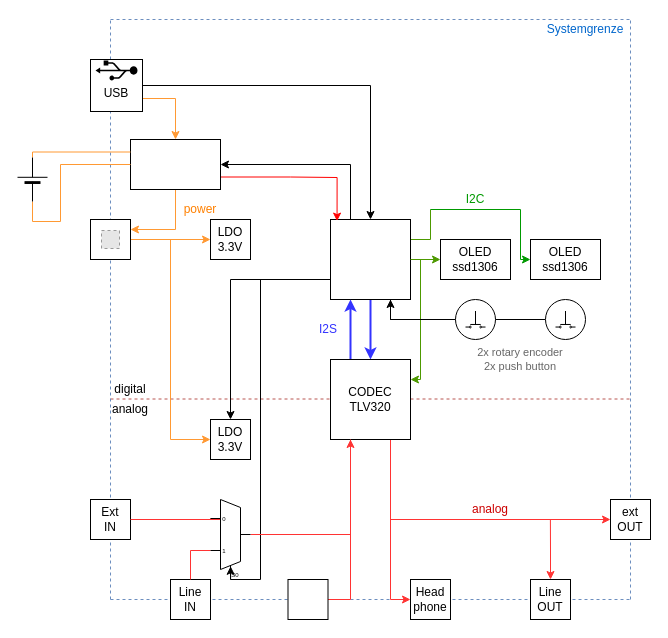
Some shapes in this 668 by 638 pixel diagram are drawn without their labels. Grey dashed boxes stand in for pictures. Here are the shapes that lost their labels. From the top down, the centre of each, then its label:
At point 175,164: "charging IC BQ2409x".
At point 370,259: "DSP STM32".
At point 307,599: "MIC".
